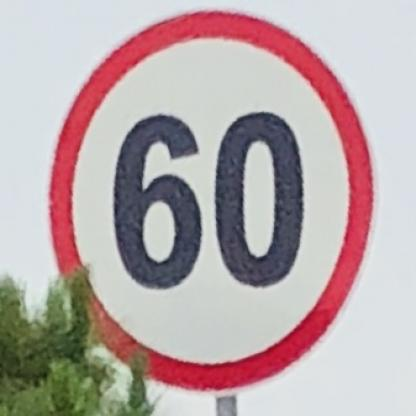Speed Limit -60 kmph-: (48, 10, 373, 390)
